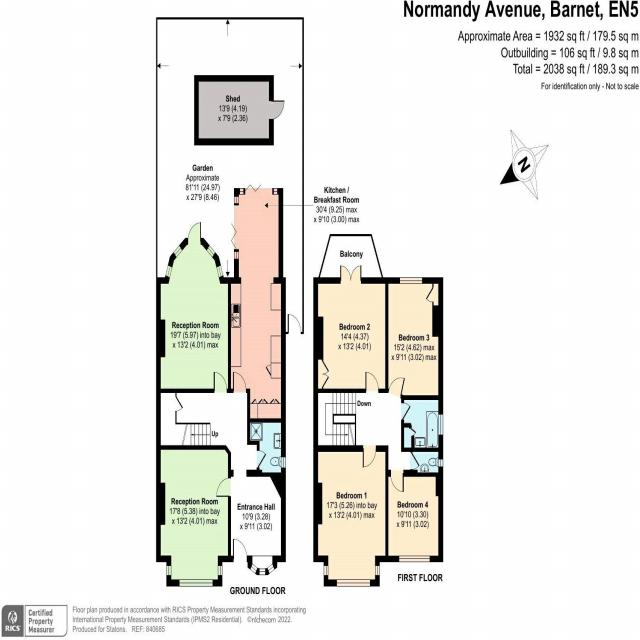DOOR: (388, 377, 406, 399), (390, 469, 405, 493), (233, 538, 247, 562), (187, 221, 201, 245), (362, 445, 376, 468), (232, 372, 247, 393), (365, 371, 379, 393), (213, 371, 227, 393), (216, 477, 231, 497), (410, 452, 420, 470), (401, 402, 411, 420), (257, 450, 267, 468)
DOUBLE DOOR: (340, 264, 362, 284)
FOLDING DOOR: (244, 181, 273, 194)
ROOM: (228, 183, 286, 423), (156, 221, 231, 393), (313, 445, 389, 587), (156, 445, 231, 587), (313, 265, 389, 393), (385, 277, 443, 400), (385, 469, 444, 563)
WINDOW: (336, 579, 371, 587), (179, 579, 213, 587), (399, 555, 430, 563), (399, 277, 423, 284), (173, 244, 183, 259), (206, 244, 216, 258), (165, 264, 173, 279), (216, 265, 224, 279), (438, 414, 443, 435), (250, 563, 258, 574), (267, 563, 275, 574), (323, 565, 329, 576), (166, 565, 172, 576), (375, 565, 380, 576), (218, 565, 223, 576), (281, 457, 286, 468), (259, 568, 266, 575), (438, 459, 443, 467), (234, 196, 239, 204), (234, 251, 239, 259), (240, 188, 244, 195), (273, 188, 277, 195)
